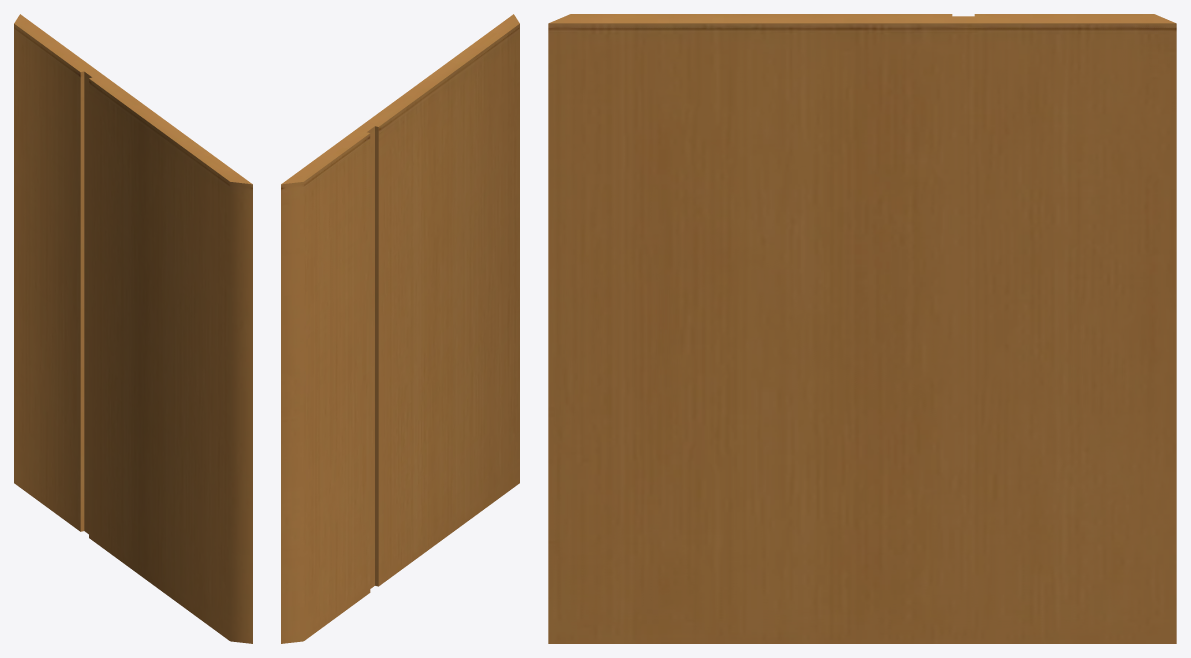
The model's file is link_8__vertical_side_panel-40.glb.
The picture shows the model from 3 angles, left to right: view 1: azimuth 30°, elevation 25°; view 2: azimuth 150°, elevation 25°; view 3: azimuth 270°, elevation 25°; orthographic projection. The views are drawn at different scales.
Parts seen in each view (by area): view 1: world; view 2: world; view 3: world.
Part boxes in pixels (box(x1,y1,x2,y2)): world: box(14, 14, 252, 643); world: box(281, 14, 519, 643); world: box(548, 14, 1176, 643).
Size of the model in its own units: 0.021 by 0.6406 by 0.5881.
Materials: 1 (1 with a texture image).
